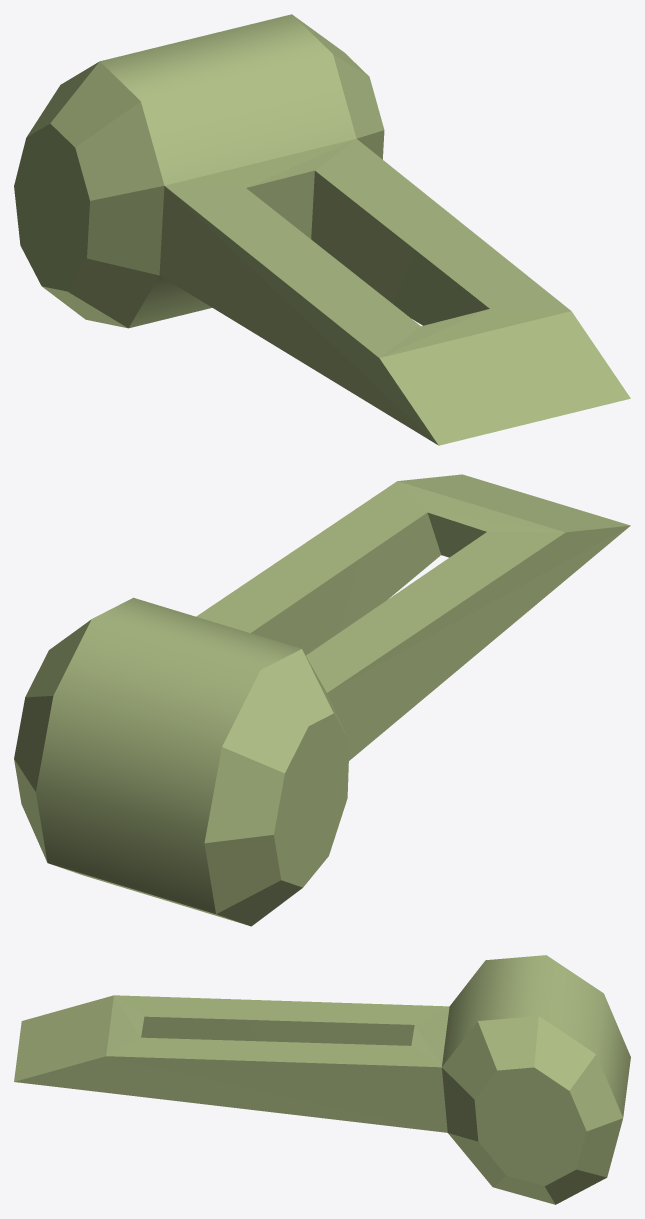
Rendered from SpiderLegRightFrontB.FBX.
3 views of the same model, one above another, from view 1: azimuth 30°, elevation 25°; view 2: azimuth 150°, elevation 25°; view 3: azimuth 270°, elevation 25° (orthographic). The views are drawn at different scales.
Visible parts, largest first — view 1: SpiderLegRightFrontB; view 2: SpiderLegRightFrontB; view 3: SpiderLegRightFrontB.
Boxes of the visible parts, x1=… form: SpiderLegRightFrontB: x1=14, y1=14, x2=630, y2=445; SpiderLegRightFrontB: x1=14, y1=474, x2=630, y2=926; SpiderLegRightFrontB: x1=14, y1=955, x2=630, y2=1204.
Size of the model in its own units: 74.98 by 194 by 67.18.
